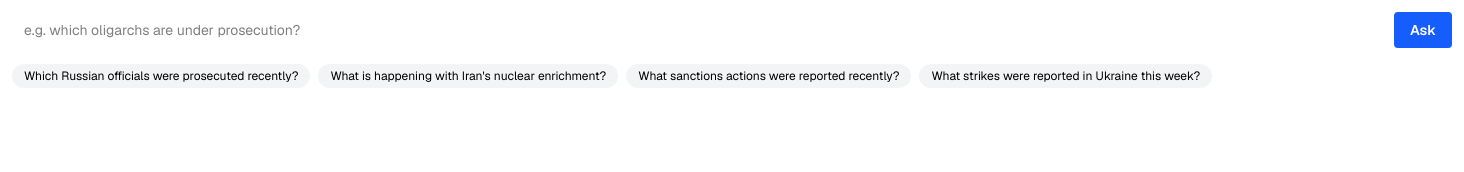
Scenario: AskForm: progressive transport (ASK_PROGRESSIVE client path) › a replayed terminal payload hydrates via the ORIGINAL run's id from result.runId, not the row-less transport id (supplementary Gate 2)
Type "did russia strike kyiv today" into the field with placeholder "e.g. which oligarchs are under prosecution?" at (699, 30), box [12,12,1386,48]
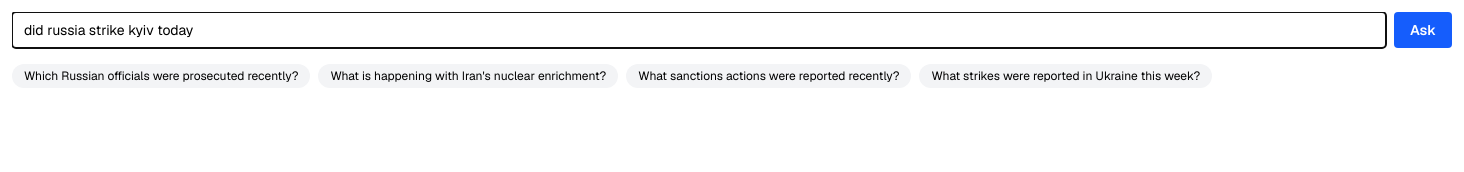
Click the button "Ask" at (1423, 30), box [1394,12,1452,48]
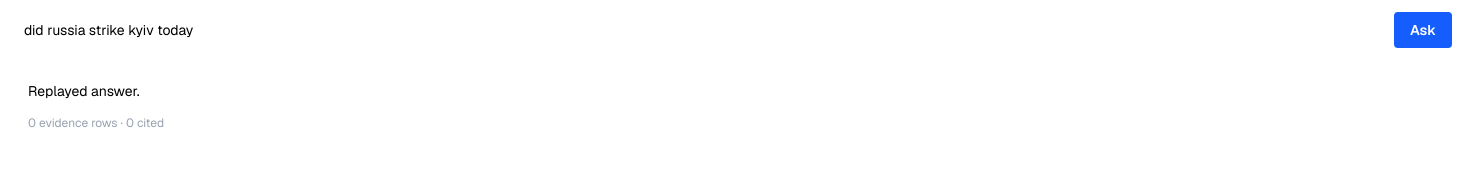
Result: the text "Replayed answer." is shown at [28,82,140,100]
